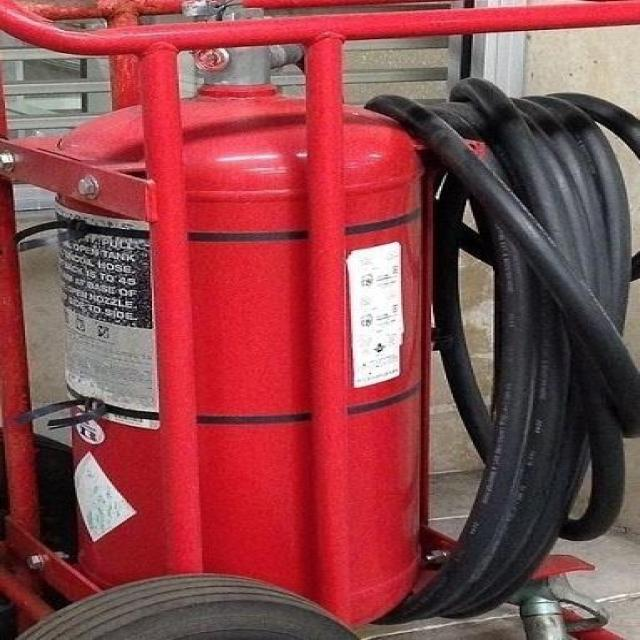fire_extinguisher: (44, 5, 638, 633)
